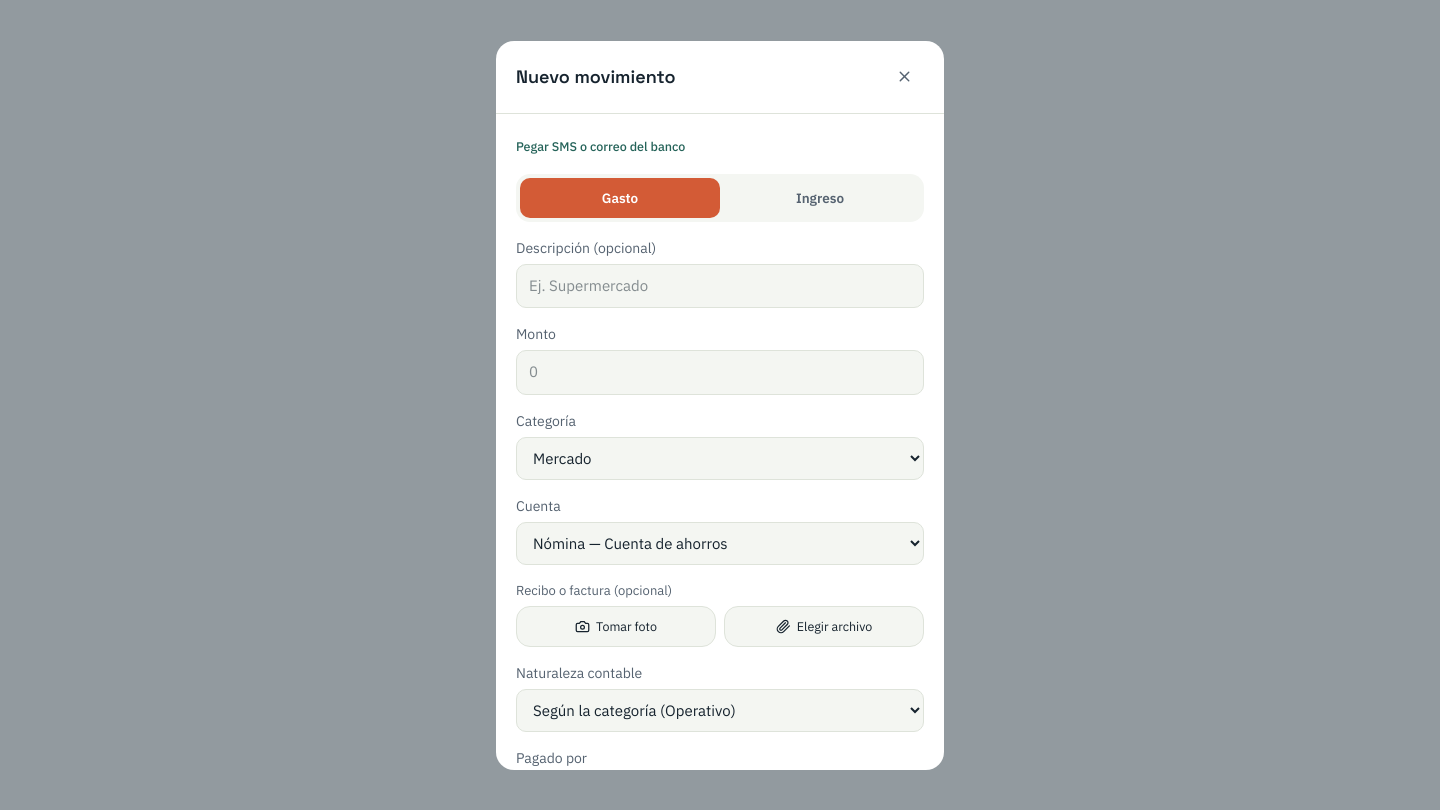
it: Pegar SMS del banco en el formulario › sin monto avisa y no toca el formulario
The image size is (1440, 810).
Click the button "Pegar SMS o correo del banco" at (601, 146), box [516,134,685,158]
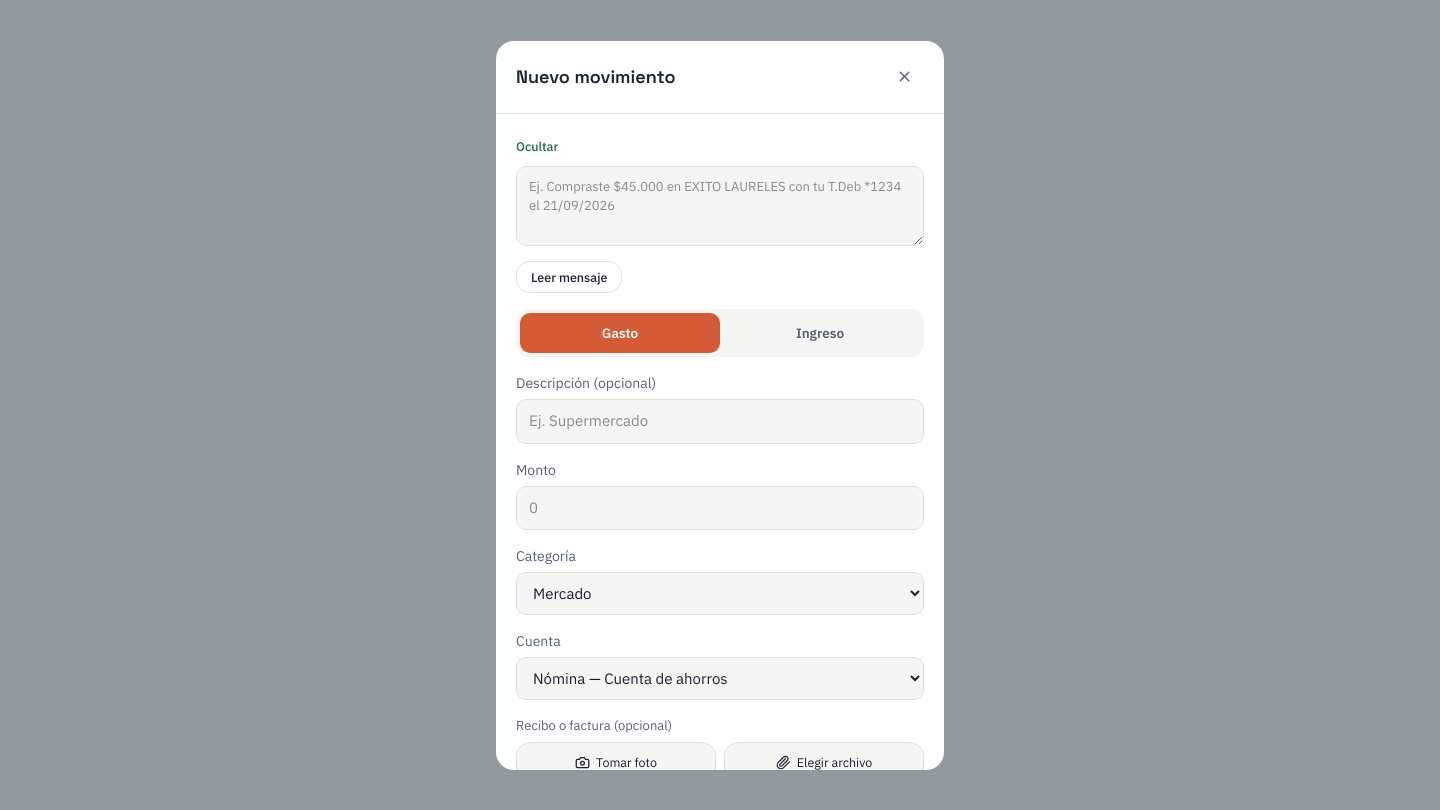
Replace the text in the text box named "Mensaje del banco" with "Tu clave de acceso vence pronto" at (720, 206), box [516,166,924,246]
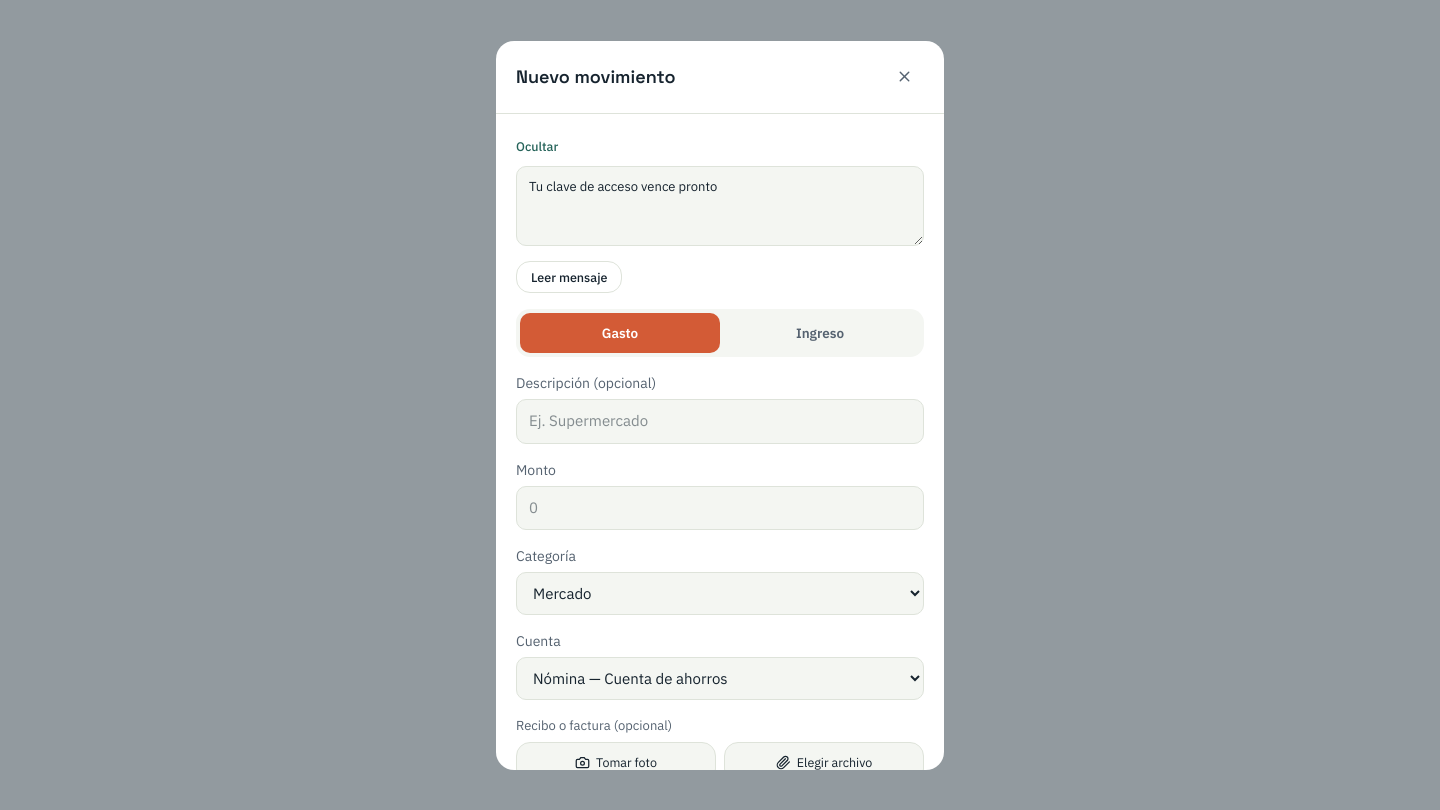
Click the button "Leer mensaje" at (569, 277), box [516,260,622,293]
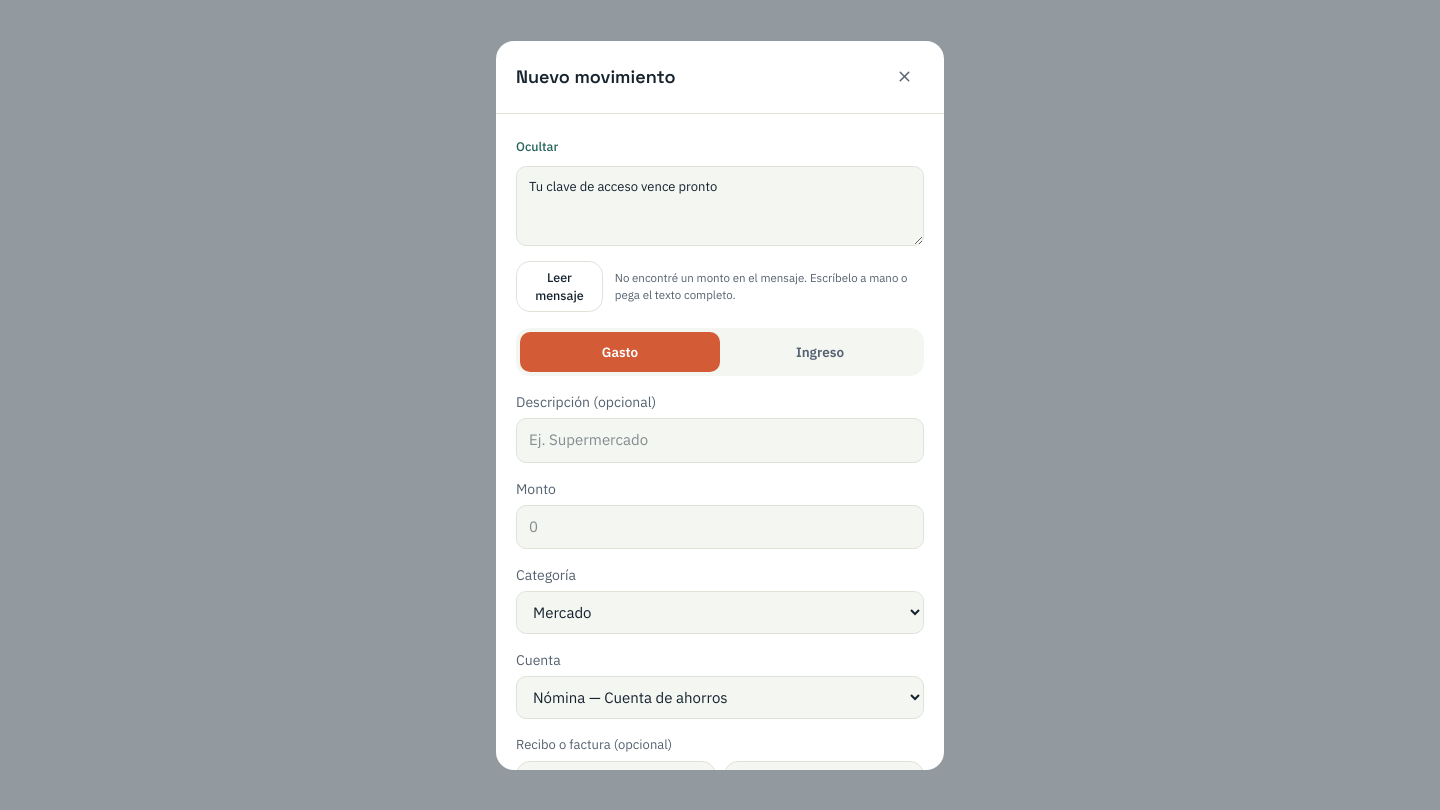
Expected: the text "No encontré un monto" is shown, [615,270,908,302]
